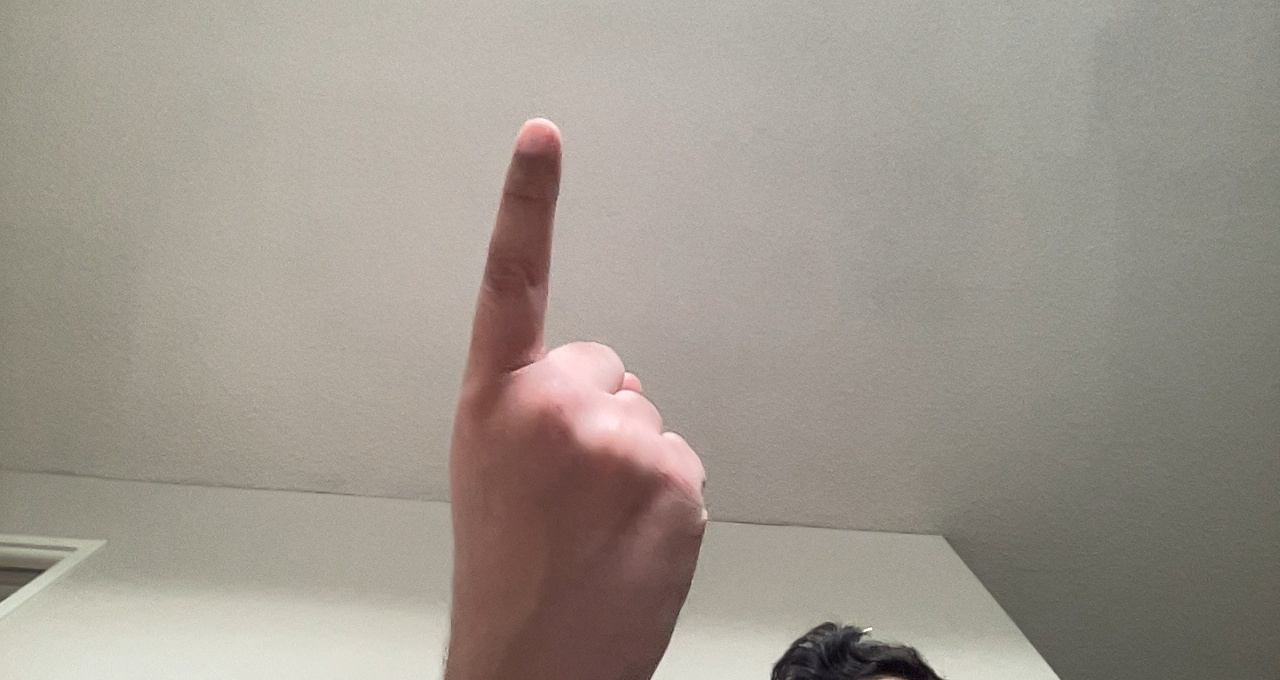fingerup: (437, 115, 721, 674)
